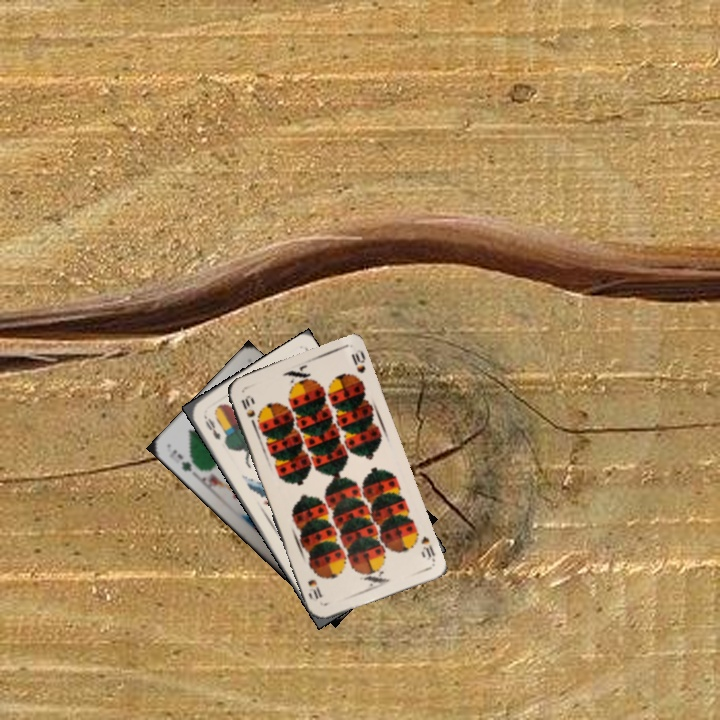EO: (199, 411, 223, 443)
GK: (165, 445, 195, 474)
S10: (237, 392, 258, 429), (417, 532, 438, 563)
